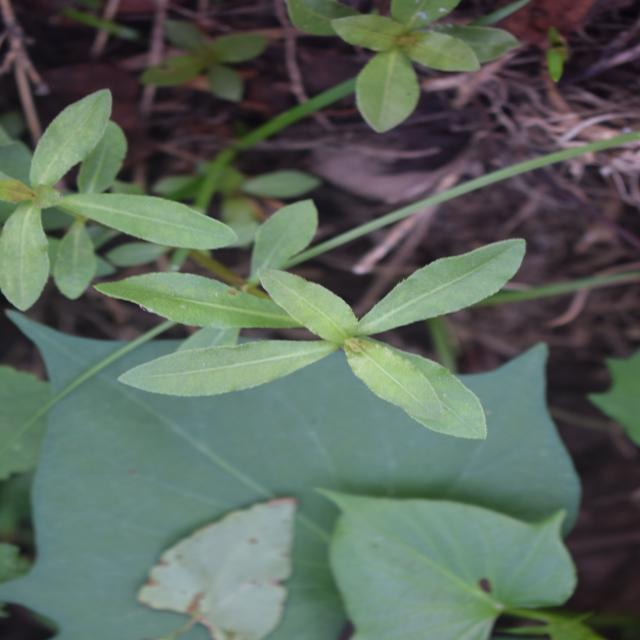Alligatorweed: (201, 88, 427, 529)
